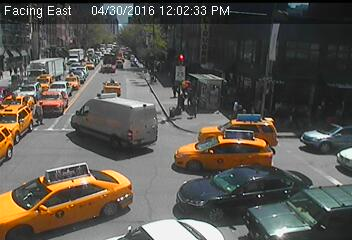neg: (275, 153, 315, 206), (221, 141, 256, 188), (164, 149, 193, 188), (63, 161, 86, 191), (91, 122, 114, 151), (177, 145, 199, 175), (116, 107, 137, 134), (162, 200, 182, 228), (87, 206, 102, 227), (122, 74, 134, 91), (152, 53, 161, 66)
pos: (28, 98, 48, 125), (168, 80, 181, 98)
